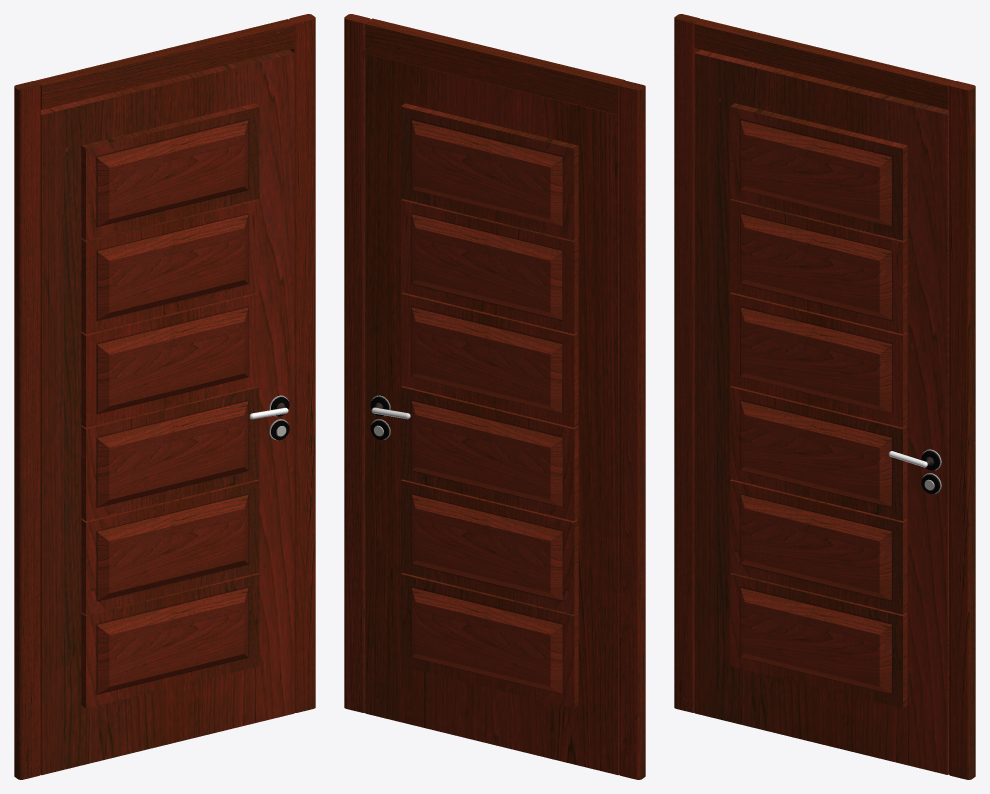
The model's file is Door.FBX.
3 views of the same model, side by side, from view 1: azimuth 30°, elevation 25°; view 2: azimuth 150°, elevation 25°; view 3: azimuth 330°, elevation 25° (orthographic).
Visible parts, largest first — view 1: Box002, Plane002, Rectangle001; view 2: Box003, Plane002, Rectangle001; view 3: Box002, Plane002, Rectangle001.
Boxes of the visible parts, x1=… form: Box002: x1=81, y1=103, x2=259, y2=708; Plane002: x1=40, y1=49, x2=294, y2=775; Rectangle001: x1=14, y1=14, x2=315, y2=779; Box003: x1=401, y1=103, x2=578, y2=707; Plane002: x1=365, y1=53, x2=619, y2=775; Rectangle001: x1=344, y1=14, x2=645, y2=779; Box002: x1=729, y1=103, x2=907, y2=707; Plane002: x1=694, y1=49, x2=948, y2=774; Rectangle001: x1=674, y1=14, x2=975, y2=779.
Bounding box in the file's own units: 1486 × 3294 × 213.
